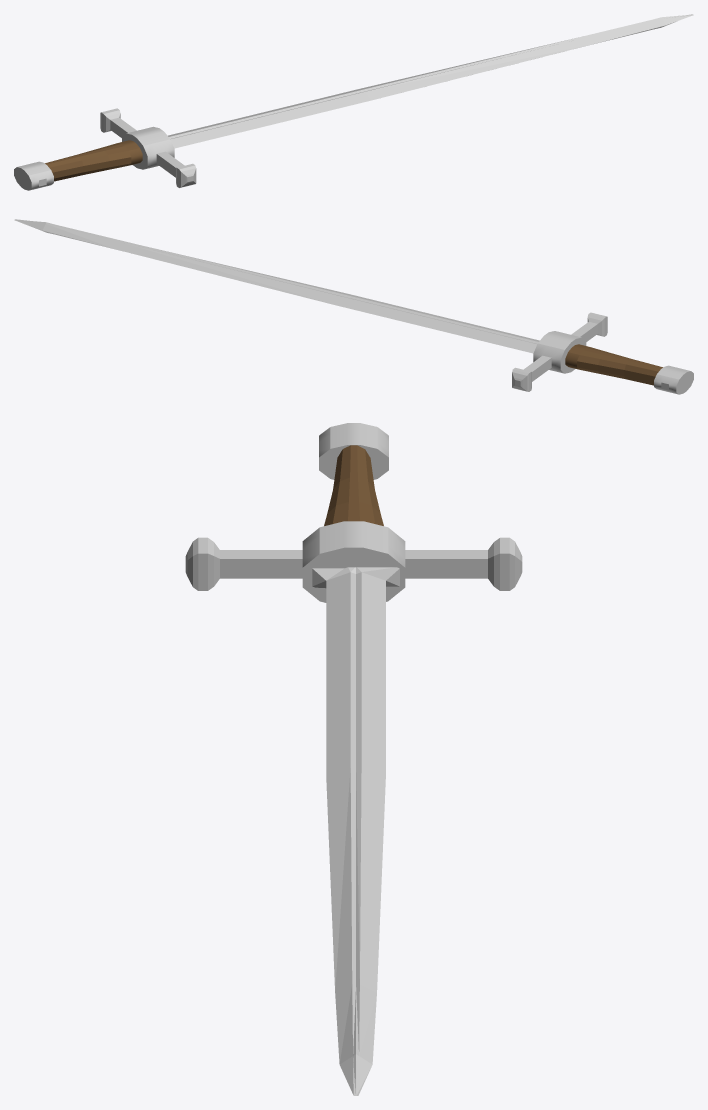
Rendered from sword.fbx.
3 views of the same model, one above another, from view 1: azimuth 30°, elevation 25°; view 2: azimuth 150°, elevation 25°; view 3: azimuth 270°, elevation 25° (orthographic). The views are drawn at different scales.
Visible parts, largest first — view 1: sword_blade, sword_chappe, sword_grip, sword_pommel; view 2: sword_blade, sword_chappe, sword_grip, sword_pommel; view 3: sword_blade, sword_chappe, sword_grip, sword_pommel.
Part boxes in pixels (x1=…): sword_blade: x1=168, y1=14, x2=693, y2=148; sword_chappe: x1=100, y1=108, x2=196, y2=187; sword_grip: x1=45, y1=140, x2=142, y2=181; sword_pommel: x1=14, y1=161, x2=53, y2=190; sword_blade: x1=14, y1=219, x2=539, y2=353; sword_chappe: x1=512, y1=312, x2=607, y2=391; sword_grip: x1=565, y1=344, x2=662, y2=385; sword_pommel: x1=654, y1=365, x2=693, y2=394; sword_blade: x1=312, y1=567, x2=399, y2=1095; sword_chappe: x1=185, y1=521, x2=522, y2=602; sword_grip: x1=324, y1=445, x2=383, y2=525; sword_pommel: x1=319, y1=423, x2=388, y2=479.
Size of the model in its own units: 8.77 by 0.3735 by 1.91.
